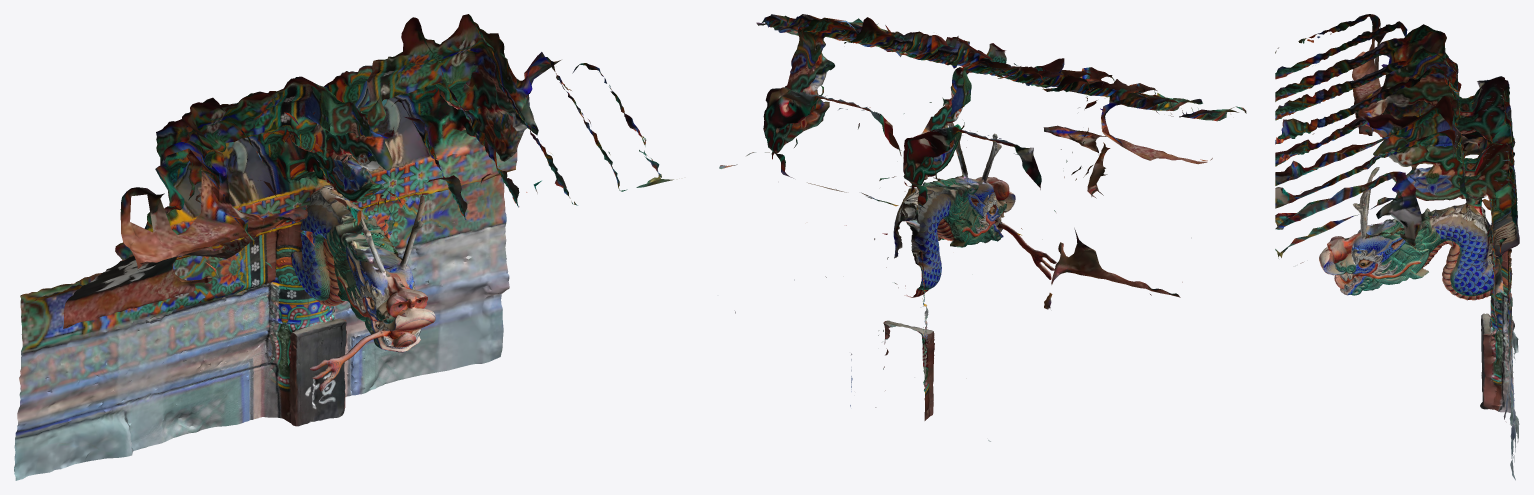
Rendered from book-5-dragon.glb.
3 renders of one model, left to right at view 1: azimuth 30°, elevation 25°; view 2: azimuth 150°, elevation 25°; view 3: azimuth 270°, elevation 25°, orthographic. The views are drawn at different scales.
Visible parts, largest first — view 1: k123mesh; view 2: k123mesh; view 3: k123mesh.
Boxes of the visible parts, left/top/right/bottom form: k123mesh: left=14, top=14, right=673, bottom=480; k123mesh: left=719, top=14, right=1246, bottom=441; k123mesh: left=1275, top=14, right=1519, bottom=480.
Size of the model in its own units: 2.5 by 1.8 by 1.2.
Materials: 1 (1 with a texture image).
